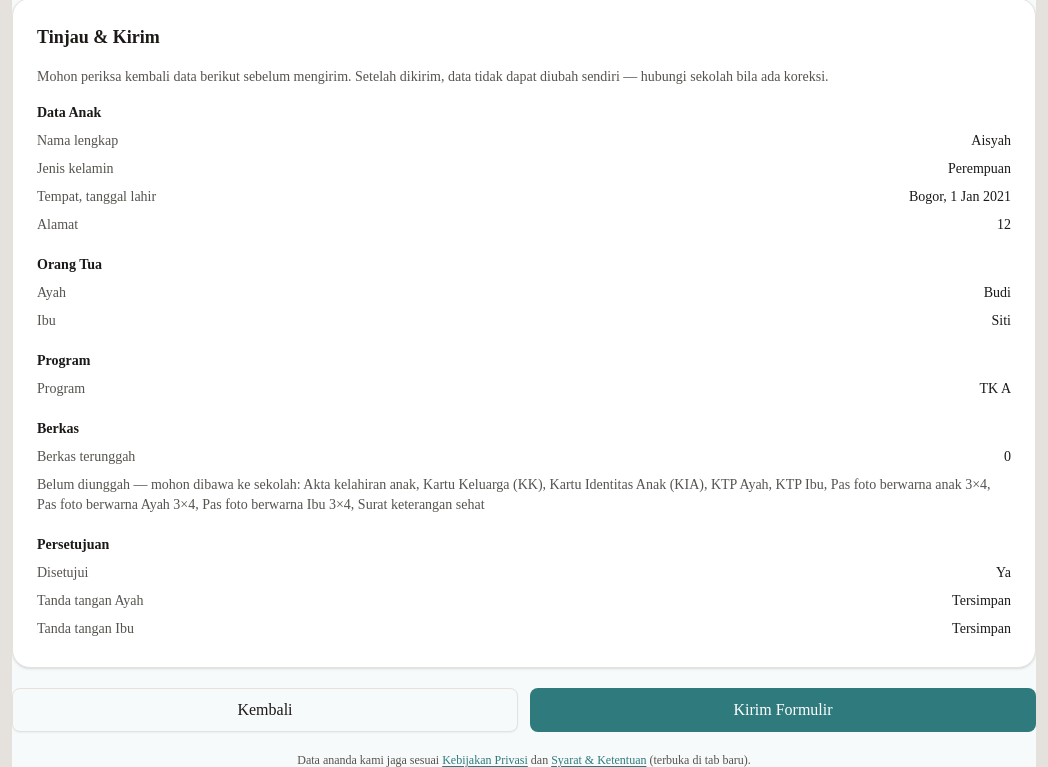
Test case: address block: kode pos checked on Lanjut › Kirim Formulir names the step when a malformed kode pos got as far as Tinjau
(page scrolled)
Step 1. Click the button "Kirim Formulir" → click(783, 710), box [530,688,1036,732]
(page scrolled)
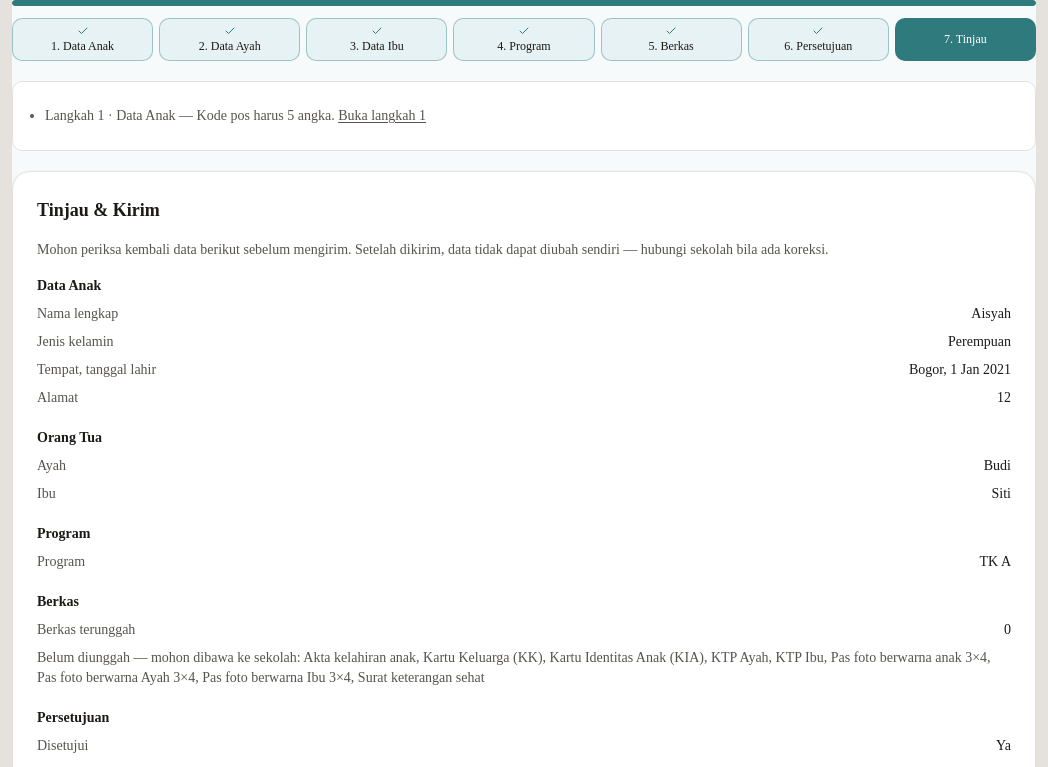
Now the list item "Data Anak — Kode pos harus 5 angka." is shown, box [45,108,335,123]
